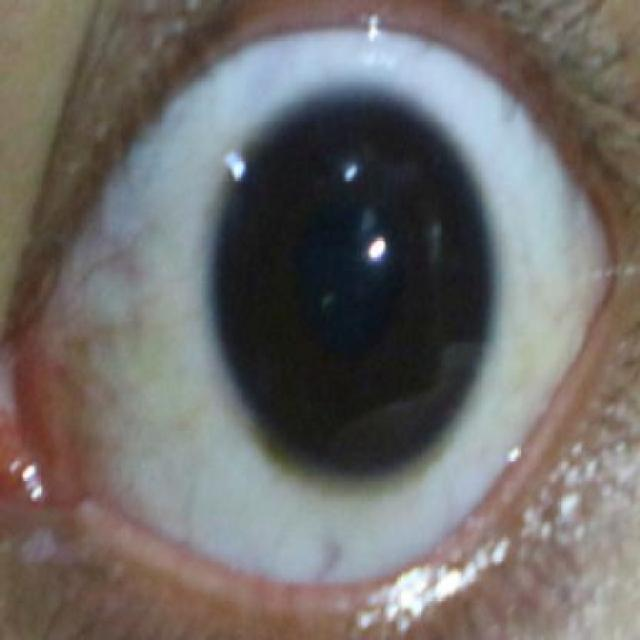Normal: (208, 94, 495, 468)
